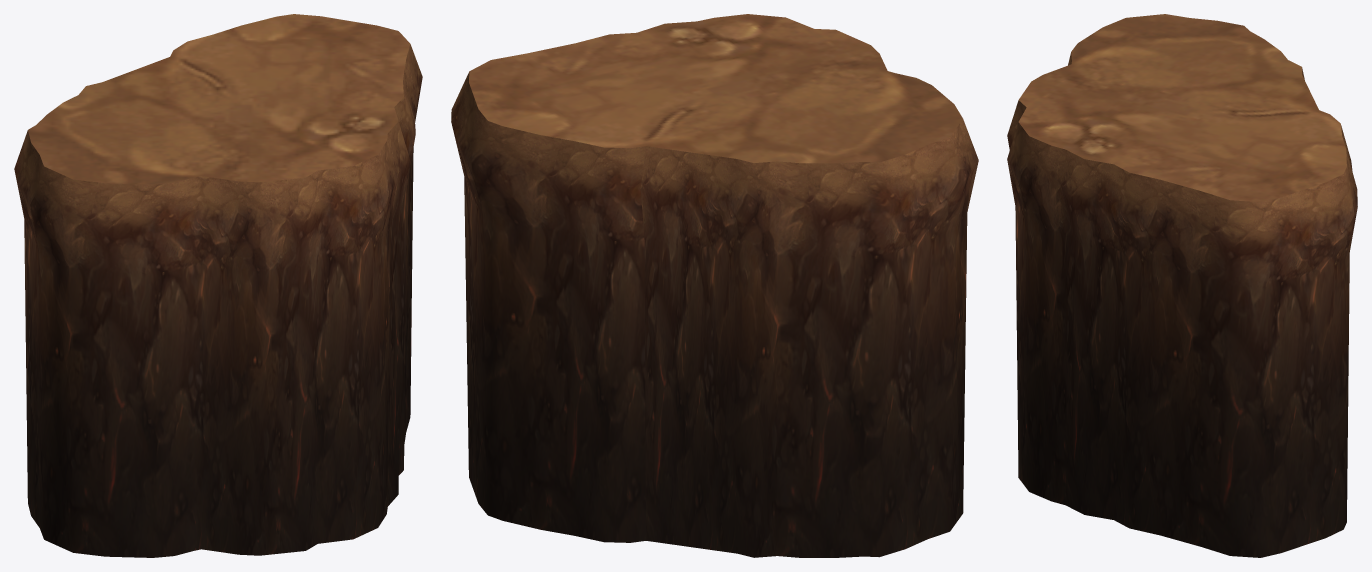
File: DiZuo05.FBX
The picture shows the model from 3 angles, left to right: view 1: azimuth 30°, elevation 25°; view 2: azimuth 150°, elevation 25°; view 3: azimuth 270°, elevation 25°; orthographic projection. The views are drawn at different scales.
Parts seen in each view (by area): view 1: DiZuo05, DiZuo05b; view 2: DiZuo05, DiZuo05b; view 3: DiZuo05, DiZuo05b.
Boxes of the visible parts, x1=… form: DiZuo05: x1=14, y1=44, x2=422, y2=557; DiZuo05b: x1=28, y1=14, x2=410, y2=184; DiZuo05: x1=451, y1=72, x2=978, y2=557; DiZuo05b: x1=469, y1=14, x2=962, y2=163; DiZuo05: x1=1007, y1=52, x2=1357, y2=557; DiZuo05b: x1=1018, y1=14, x2=1346, y2=202.
Bounding box in the file's own units: 1429 × 1180 × 1054.
